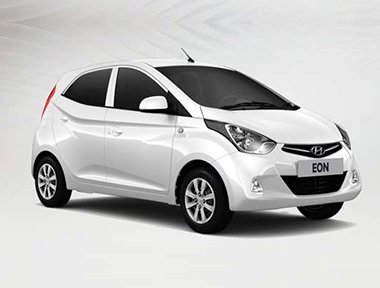car: (31, 55, 361, 230)
